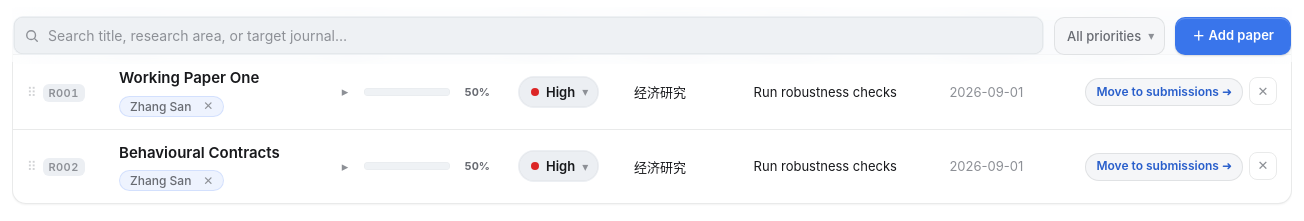
it: ResearchPage › filters by whitelisted text fields
Type "development" into the field with placeholder "Search title, research area, or target journal…" at [528, 36], box x1=13 y1=16 x2=1044 y2=55
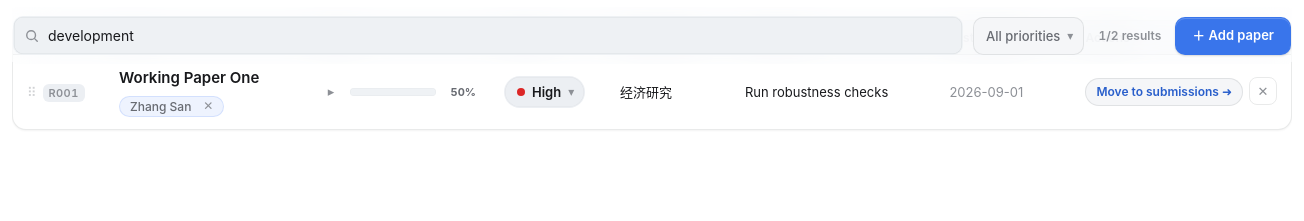
Expected: the button "Working Paper One" is shown, x1=113 y1=66 x2=265 y2=89
Now the button "Behavioural Contracts" is gone
